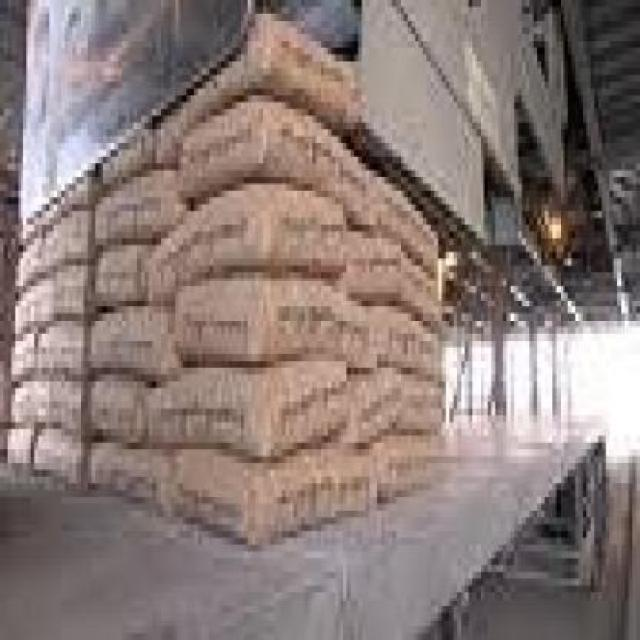gunny_bag: (259, 105, 373, 214), (249, 448, 369, 546), (256, 272, 371, 374), (263, 11, 356, 114), (260, 359, 349, 464), (94, 162, 191, 245), (256, 192, 350, 269), (94, 230, 182, 310), (364, 301, 443, 390), (91, 445, 178, 521), (348, 367, 442, 435), (89, 299, 173, 375), (371, 181, 438, 274), (369, 428, 445, 500), (90, 374, 149, 443), (345, 223, 400, 296), (41, 209, 94, 279), (35, 169, 92, 234), (95, 133, 155, 192), (36, 420, 86, 489), (35, 317, 88, 375), (14, 279, 61, 340), (400, 257, 439, 325), (48, 378, 84, 437), (52, 268, 90, 318), (12, 377, 48, 424), (10, 326, 37, 388), (14, 231, 42, 290), (10, 424, 38, 473), (16, 214, 38, 255)
